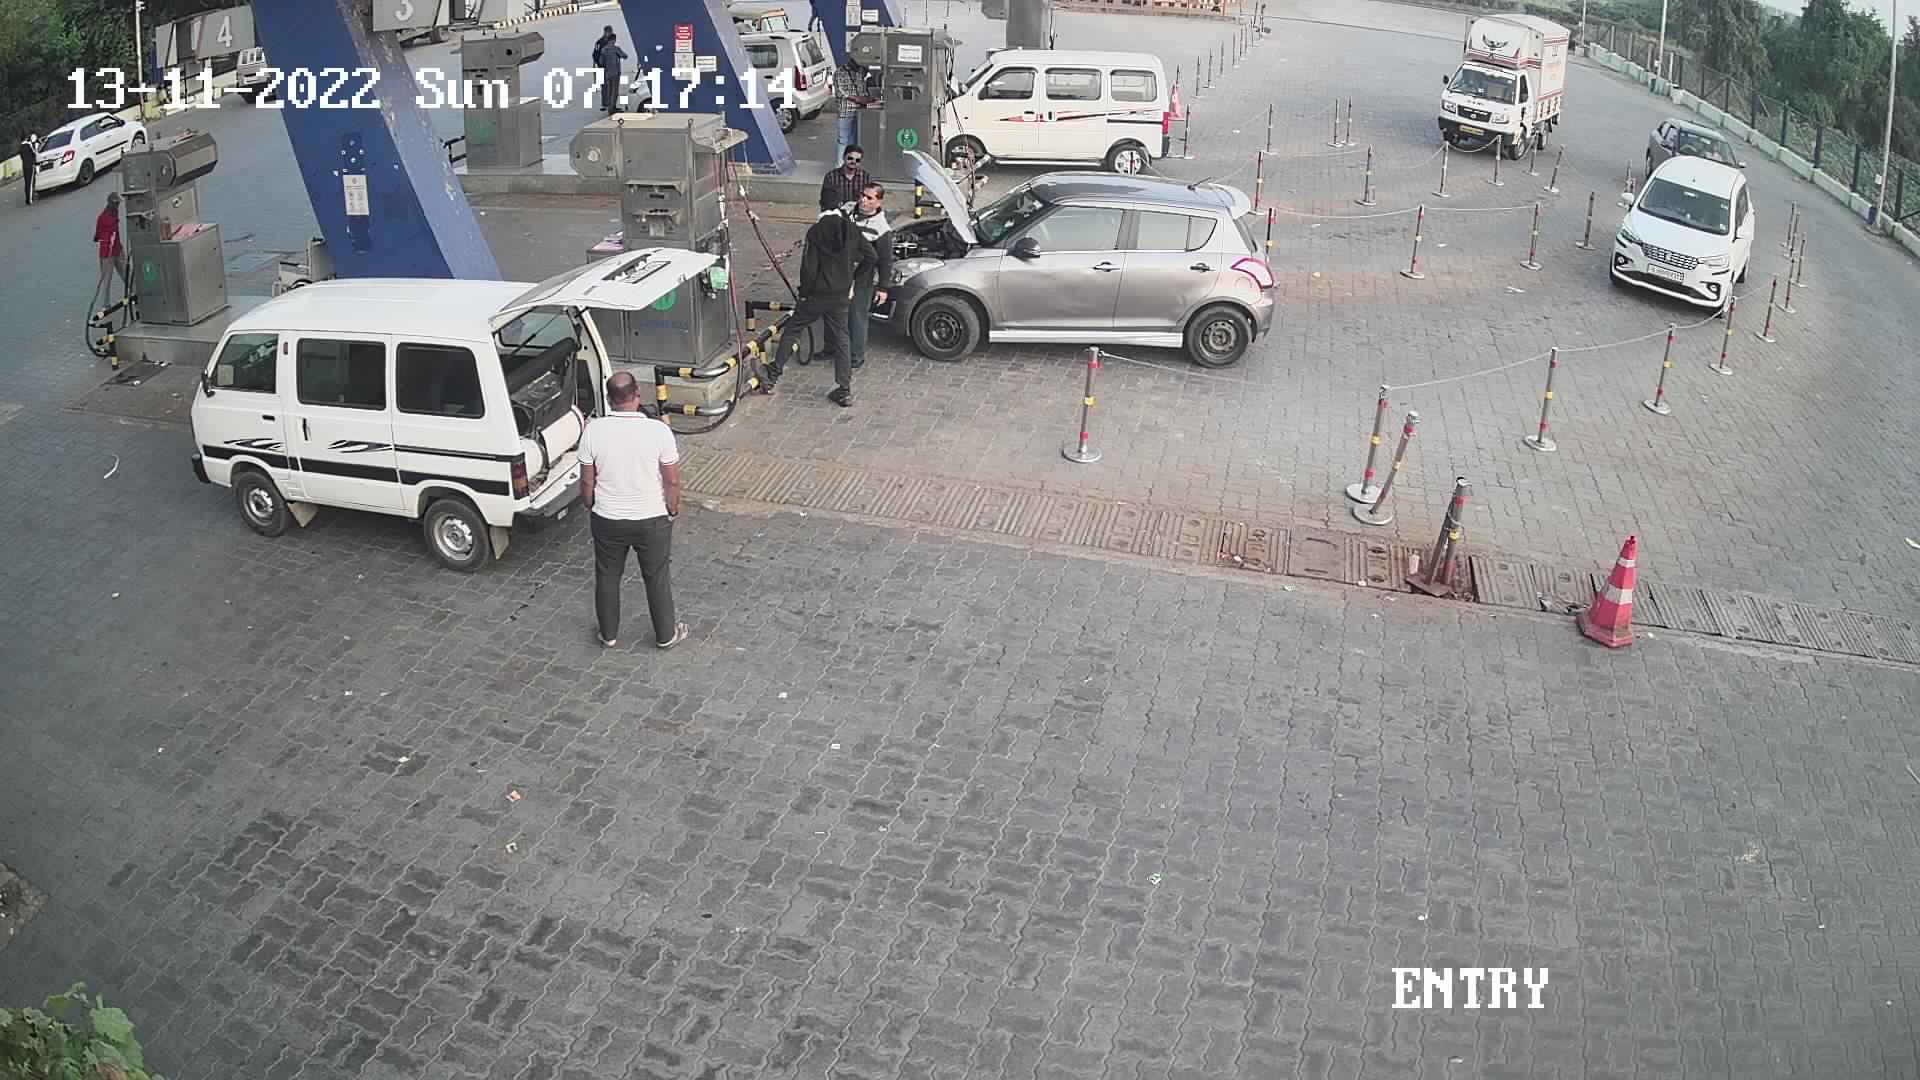Auto: (723, 1, 803, 46)
Car: (182, 233, 735, 582), (851, 142, 1292, 378), (936, 38, 1168, 181), (1600, 146, 1760, 324), (1427, 5, 1577, 167), (21, 102, 161, 200), (727, 22, 836, 135), (1639, 107, 1758, 179), (216, 22, 287, 113)
